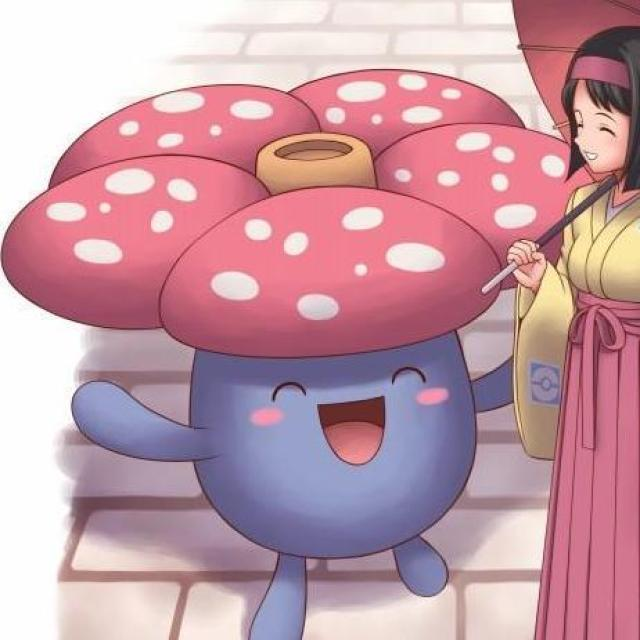Vileplume: (18, 65, 560, 630)
